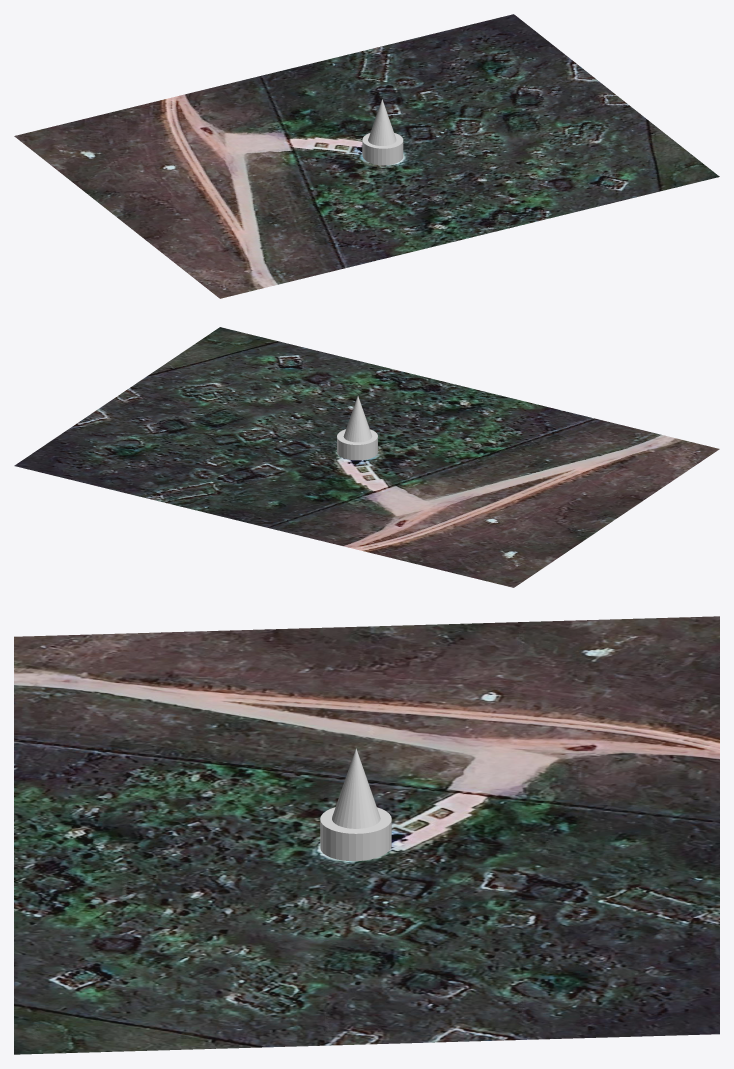
File: mavzoleybyxalziray.glb
The picture shows the model from 3 angles, top to bottom: view 1: azimuth 30°, elevation 25°; view 2: azimuth 150°, elevation 25°; view 3: azimuth 270°, elevation 25°; orthographic projection. The views are drawn at different scales.
Parts seen in each view (by area): view 1: EXPORT_GOOGLE_SAT_WM, Cylinder, Cone; view 2: EXPORT_GOOGLE_SAT_WM, Cylinder, Cone; view 3: EXPORT_GOOGLE_SAT_WM, Cylinder, Cone.
Part boxes in pixels (bbox=[...]): EXPORT_GOOGLE_SAT_WM: bbox=[14, 14, 719, 298]; Cylinder: bbox=[362, 133, 403, 165]; Cone: bbox=[368, 99, 396, 145]; EXPORT_GOOGLE_SAT_WM: bbox=[14, 327, 719, 587]; Cylinder: bbox=[337, 429, 377, 460]; Cone: bbox=[343, 396, 372, 442]; EXPORT_GOOGLE_SAT_WM: bbox=[14, 616, 719, 1054]; Cylinder: bbox=[320, 807, 391, 861]; Cone: bbox=[332, 748, 380, 828].
Bounding box in the file's own units: 268 × 32.21 × 191.
Materials: 1 (1 with a texture image).
